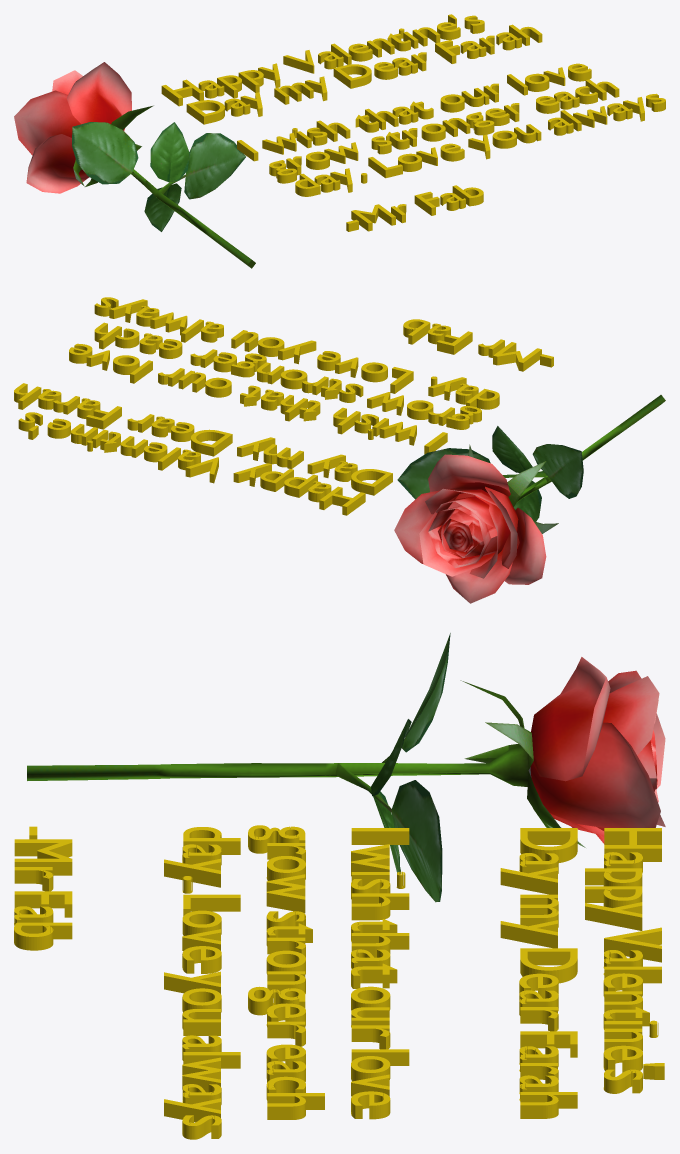
Rendered from rose-wishes.gltf.
3 renders of one model, top to bottom at view 1: azimuth 30°, elevation 25°; view 2: azimuth 150°, elevation 25°; view 3: azimuth 270°, elevation 25°, orthographic. The views are drawn at different scales.
Parts seen in each view (by area): view 1: Text, Rosediss; view 2: Text, Rosediss; view 3: Text, Rosediss.
Part boxes in pixels (bbox=[...]): Text: bbox=[161, 14, 665, 231]; Rosediss: bbox=[14, 62, 255, 268]; Text: bbox=[14, 297, 553, 515]; Rosediss: bbox=[394, 395, 665, 603]; Text: bbox=[14, 825, 664, 1139]; Rosediss: bbox=[27, 633, 665, 902].
Bounding box in the file's own units: 2.76 × 0.6278 × 1.78.
Materials: 2 (1 with a texture image).
